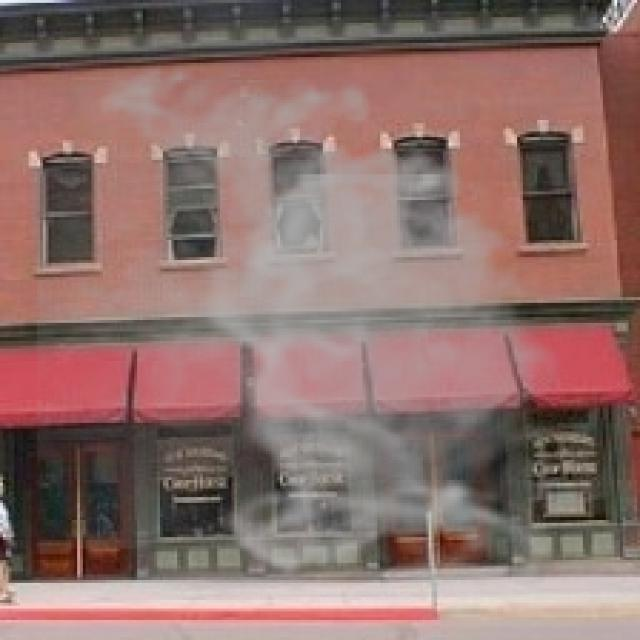smoke: (37, 48, 580, 583)
